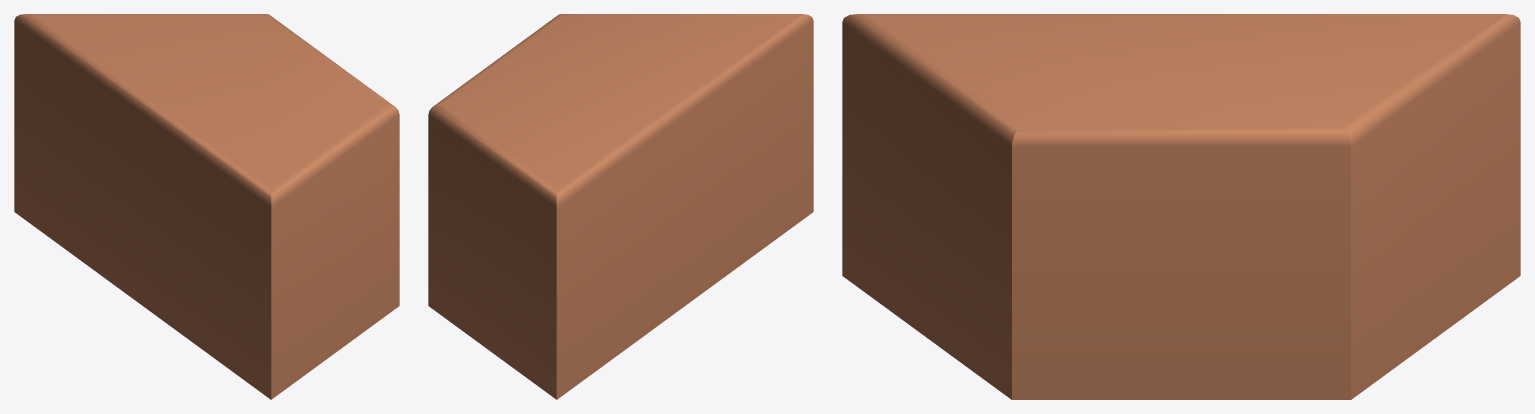
The model's file is hex_rock_waterB_empty.glb.
The picture shows the model from 3 angles, left to right: view 1: azimuth 30°, elevation 25°; view 2: azimuth 150°, elevation 25°; view 3: azimuth 270°, elevation 25°; orthographic projection. The views are drawn at different scales.
Parts seen in each view (by area): view 1: hex_rock_waterB_empty; view 2: hex_rock_waterB_empty; view 3: hex_rock_waterB_empty.
Part boxes in pixels (x1,y1,x2,y2): hex_rock_waterB_empty: [14, 14, 399, 399]; hex_rock_waterB_empty: [428, 14, 813, 399]; hex_rock_waterB_empty: [842, 14, 1520, 399].
Size of the model in its own units: 1 by 1 by 2.31.
